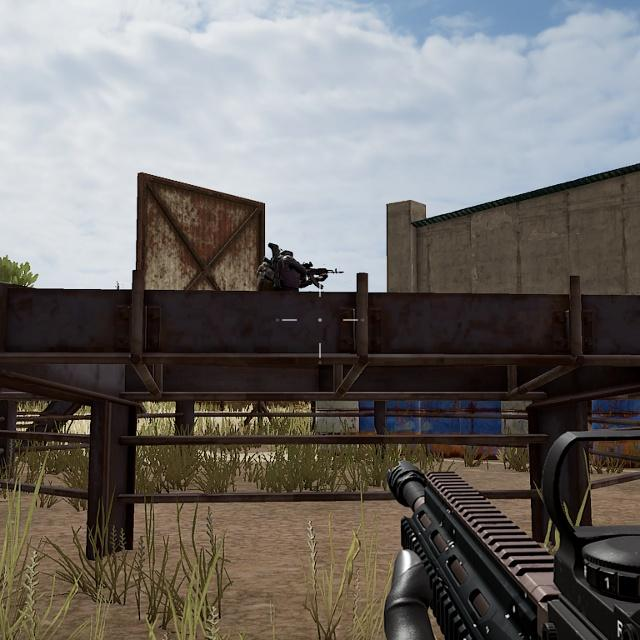people: (253, 240, 335, 294)
